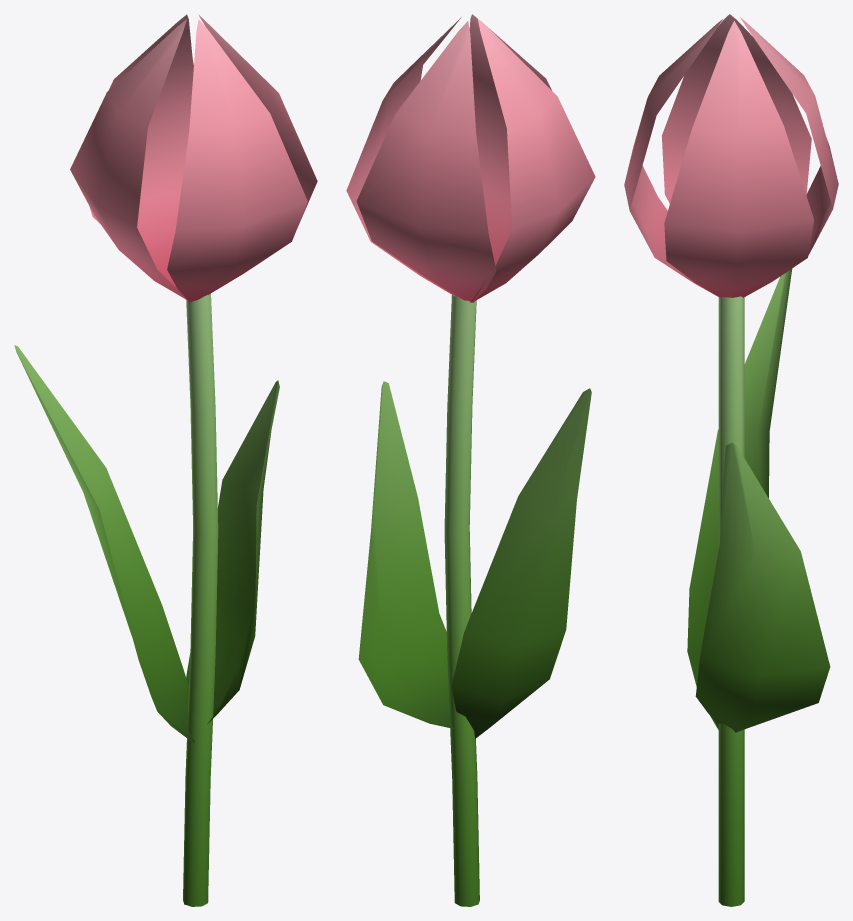
Rendered from flower (17).fbx.
The picture shows the model from 3 angles, left to right: view 1: azimuth 30°, elevation 25°; view 2: azimuth 150°, elevation 25°; view 3: azimuth 270°, elevation 25°; orthographic projection.
Parts seen in each view (by area): view 1: 17_f7; view 2: 17_f7; view 3: 17_f7.
Part boxes in pixels (x1,y1,x2,y2): 17_f7: [14, 14, 317, 906]; 17_f7: [346, 14, 595, 906]; 17_f7: [624, 14, 838, 906].
Bounding box in the file's own units: 33.06 × 115 × 25.42.
